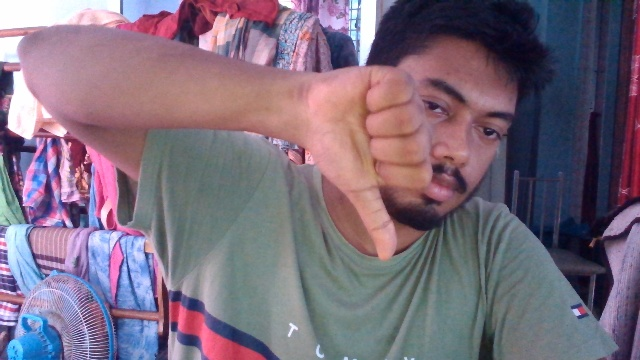no: (281, 55, 440, 261)
